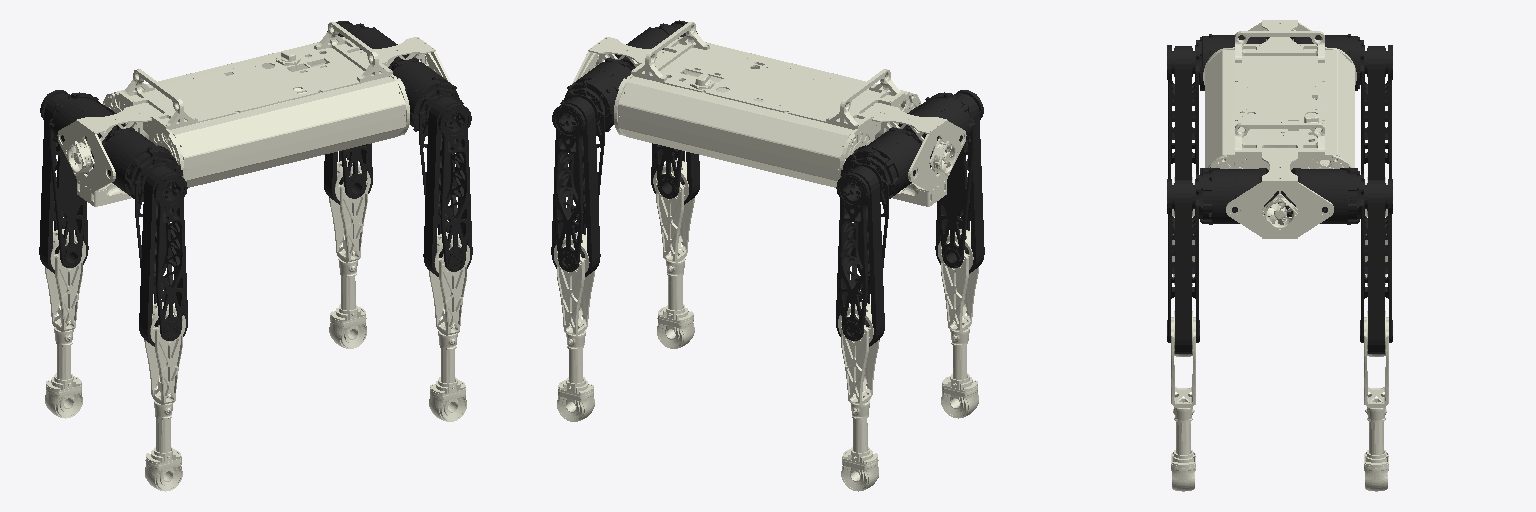
The robot description file, URDF, robot "Hound_description":

<robot name="Hound_description" xmlns:xacro="http://www.ros.org/wiki/xacro">
  <material name="black">
    <color rgba="0.0 0.0 0.0 1.0"/>
  </material>
  <material name="blue">
    <color rgba="0.0 0.0 0.8 1.0"/>
  </material>
  <material name="green">
    <color rgba="0.0 0.8 0.0 1.0"/>
  </material>
  <material name="grey">
    <color rgba="0.2 0.2 0.2 1.0"/>
  </material>
  <material name="silver">
    <color rgba="0.913725490196 0.913725490196 0.847058823529 1.0"/>
  </material>
  <material name="orange">
    <color rgba="1.0 0.423529411765 0.0392156862745 1.0"/>
  </material>
  <material name="brown">
    <color rgba="0.870588235294 0.811764705882 0.764705882353 1.0"/>
  </material>
  <material name="red">
    <color rgba="0.8 0.0 0.0 1.0"/>
  </material>
  <material name="white">
    <color rgba="1.0 1.0 1.0 1.0"/>
  </material>

  <link name="trunk">
    <visual>
      <origin rpy="0 0 0" xyz="0 0 0"/>
      <geometry>
        <mesh filename="../meshes/base.stl" scale="1 1 1"/>
      </geometry>
      <material name="silver"/>
    </visual>
    <collision>
      <origin rpy="0 0 0" xyz="0 0 0"/>
      <geometry>
        <box size="0.56200000 0.25100000 0.14000000"/>
      </geometry>
    </collision>
    <inertial>
      <origin rpy="0 0 0" xyz="0.00131900 0.00023900 0.00387900"/>
      <mass value="18.47623500"/>
      <inertia ixx="0.21721300" ixy="0.00143000" ixz="0.00207600" iyy="0.80351400" iyz="0.00030900" izz="0.95808400"/>
    </inertial>
  </link>

  <joint name="rear_cam_fixed" type="fixed">
    <origin rpy="0 0 0" xyz="-0.4215 0 -0.070"/>
    <parent link="trunk"/>
    <child link="rear_cam"/>
  </joint>
  <link name="rear_cam">
    <visual>
      <origin rpy="0 0 0" xyz="0 0 0"/>
      <geometry>
        <mesh filename="../meshes/rear_cam.stl" scale="1 1 1"/>
      </geometry>
      <material name="silver"/>
    </visual>
    <collision>
      <origin rpy="0 0 0" xyz="0.0745 0 -0.020"/>
      <geometry>
        <box size="0.150 0.080 0.040"/>
      </geometry>
    </collision>
    <inertial>
      <origin rpy="0 0 0" xyz="0.07235258 -0.00001318 -0.01430797"/>
      <mass value="0.176"/>
      <inertia ixx="0.00008264" ixy="0.00000000" ixz="-0.00000147" iyy="0.00031979" iyz="0.00000000" izz="0.00038072"/>
    </inertial>
  </link>

  <joint name="RR_roll_joint" type="revolute">
    <origin rpy="0 0 0" xyz="-0.35147000 -0.10000000 0.00000000"/>
    <parent link="trunk"/>
    <child link="RR_shoulder"/>
    <axis xyz="1 0 0"/>
    <dynamics rotor_inertia="0.01405600" damping="0" friction="0"/>
    <limit effort="200.00000000" lower="-0.78539816" upper="0.78539816" velocity="21.29000000"/>
  </joint>
  <link name="RR_shoulder">
    <visual>
      <origin rpy="0 3.141592 0" xyz="0 0 0"/>
      <geometry>
        <mesh filename="../meshes/shoulder.stl" scale="1 1 1"/>
      </geometry>
      <material name="grey"/>
    </visual>
    <collision>
      <origin rpy="1.57079632679 0 0" xyz="0 -0.00500000 0"/>
      <geometry>
        <cylinder length="0.13300000" radius="0.06100000"/>
      </geometry>
    </collision>
    <inertial>
      <origin rpy="0 0 0" xyz="0.00304326 -0.00050825 0.00001789"/>
      <mass value="3.86933709"/>
      <inertia ixx="0.00858804" ixy="-0.00015474" ixz="-0.00000061" iyy="0.00737145" iyz="-0.00000042" izz="0.00928864"/>
    </inertial>
  </link>
  <joint name="RR_hip_joint" type="revolute">
    <origin rpy="0 0 0" xyz="0 -0.11350000 0"/>
    <parent link="RR_shoulder"/>
    <child link="RR_thigh"/>
    <axis xyz="0 1 0"/>
    <dynamics rotor_inertia="0.01405600" damping="0" friction="0"/>
    <limit effort="200.00000000" lower="-6.28318531" upper="6.28318531" velocity="21.29000000"/>
  </joint>
  <link name="RR_thigh">
    <visual>
      <origin rpy="0 0 0" xyz="0 0 0"/>
      <geometry>
        <mesh filename="../meshes/thigh.stl" scale="1 1 1"/>
      </geometry>
      <material name="grey"/>
    </visual>
    <collision>
      <origin rpy="0 0 0" xyz="0 0 -0.16395000"/>
      <geometry>
        <box size="0.08500000 0.07000000 0.35000000"/>
      </geometry>
    </collision>
    <inertial>
      <origin rpy="0 0 0" xyz="0.00000000 0.01475079 -0.11906126"/>
      <mass value="1.38775820"/>
      <inertia ixx="0.02401331" ixy="0.00000000" ixz="0.00000000" iyy="0.02340658" iyz="0.00229407" izz="0.00240062"/>
    </inertial>
  </link>

  <joint name="RR_knee_joint" type="revolute">
    <origin rpy="0 0 0" xyz="0 0 -0.32790000"/>
    <parent link="RR_thigh"/>
    <child link="RR_calf"/>
    <axis xyz="0 1 0"/>
    <dynamics rotor_inertia="0.05624622" damping="0" friction="0"/>
    <limit effort="400.00000000" lower="-2.79252680" upper="2.79252680" velocity="10.00000000"/>
  </joint>
  <link name="RR_calf">
    <visual>
      <origin rpy="0 0 0" xyz="0 0 0"/>
      <geometry>
        <mesh filename="../meshes/calf.stl" scale="1 1 1"/>
      </geometry>
      <material name="silver"/>
    </visual>
    <collision>
      <origin rpy="0 0 0" xyz="0 0 -0.20000000"/>
      <geometry>
        <cylinder length="0.26500000" radius="0.02500000"/>
      </geometry>
    </collision>
    <inertial>
      <origin rpy="0 0 0" xyz="0.00000000 0.00000000 -0.15092214"/>
      <mass value="0.82426578"/>
      <inertia ixx="0.01867598" ixy="0.00000000" ixz="0.00000000" iyy="0.01879191" iyz="0.00000684" izz="0.00058083"/>
    </inertial>
  </link>
  <joint name="RR_foot_fixed" type="fixed">
    <origin rpy="0 0 0" xyz="0 0 -0.35000000"/>
    <parent link="RR_calf"/>
    <child link="RR_foot"/>
  </joint>
  <link name="RR_foot">
    <collision>
      <origin rpy="0 0 0" xyz="0 0 0"/>
      <geometry>
        <sphere radius="0.03800000"/>
      </geometry>
    </collision>
    <inertial>
      <origin rpy="0 0 0" xyz="0.0 0.0 0.0"/>
      <mass value="0.001"/>
      <inertia ixx="0.000001" ixy="0.0" ixz="0.0" iyy="0.000001" iyz="0.0" izz="0.000001"/>
    </inertial>
  </link>

	
  <joint name="RL_roll_joint" type="revolute">
    <origin rpy="0 0 0" xyz="-0.35147000 0.10000000 0.00000000"/>
    <parent link="trunk"/>
    <child link="RL_shoulder"/>
    <axis xyz="1 0 0"/>
    <dynamics rotor_inertia="0.01405600" damping="0" friction="0"/>
    <limit effort="200.00000000" lower="-0.78539816" upper="0.78539816" velocity="21.29000000"/>
  </joint>
  <link name="RL_shoulder">
    <visual>
      <origin rpy="0 0 3.141592" xyz="0 0 0"/>
      <geometry>
        <mesh filename="../meshes/shoulder.stl" scale="1 1 1"/>
      </geometry>
      <material name="grey"/>
    </visual>
    <collision>
      <origin rpy="1.57079632679 0 0" xyz="0 0.00500000 0"/>
      <geometry>
        <cylinder length="0.13300000" radius="0.06100000"/>
      </geometry>
    </collision>
    <inertial>
      <origin rpy="0 0 0" xyz="0.00304326 0.00050825 -0.00001789"/>
      <mass value="3.86933709"/>
      <inertia ixx="0.00858804" ixy="0.00015474" ixz="0.00000061" iyy="0.00737145" iyz="-0.00000042" izz="0.00928864"/>
    </inertial>
  </link>
  <joint name="RL_hip_joint" type="revolute">
    <origin rpy="0 0 0" xyz="0 0.11350000 0"/>
    <parent link="RL_shoulder"/>
    <child link="RL_thigh"/>
    <axis xyz="0 1 0"/>
    <dynamics rotor_inertia="0.01405600" damping="0" friction="0"/>
    <limit effort="200.00000000" lower="-6.28318531" upper="6.28318531" velocity="21.29000000"/>
  </joint>
  <link name="RL_thigh">
    <visual>
      <origin rpy="0 0 3.141592" xyz="0 0 0"/>
      <geometry>
        <mesh filename="../meshes/thigh.stl" scale="1 1 1"/>
      </geometry>
      <material name="grey"/>
    </visual>
    <collision>
      <origin rpy="0 0 0" xyz="0 0 -0.16395000"/>
      <geometry>
        <box size="0.08500000 0.07000000 0.35000000"/>
      </geometry>
    </collision>
    <inertial>
      <origin rpy="0 0 0" xyz="-0.00000000 -0.01475079 -0.11906126"/>
      <mass value="1.38775820"/>
      <inertia ixx="0.02401331" ixy="0.00000000" ixz="-0.00000000" iyy="0.02340658" iyz="-0.00229407" izz="0.00240062"/>
    </inertial>
  </link>
  <joint name="RL_knee_joint" type="revolute">
    <origin rpy="0 0 0" xyz="0 0 -0.32790000"/>
    <parent link="RL_thigh"/>
    <child link="RL_calf"/>
    <axis xyz="0 1 0"/>
    <dynamics rotor_inertia="0.05624622" damping="0" friction="0"/>
    <limit effort="400.00000000" lower="-2.79252680" upper="2.79252680" velocity="10.00000000"/>
  </joint>
  <link name="RL_calf">
    <visual>
      <origin rpy="0 0 0" xyz="0 0 0"/>
      <geometry>
        <mesh filename="../meshes/calf.stl" scale="1 1 1"/>
      </geometry>
      <material name="silver"/>
    </visual>
    <collision>
      <origin rpy="0 0 0" xyz="0 0 -0.20000000"/>
      <geometry>
        <cylinder length="0.26500000" radius="0.02500000"/>
      </geometry>
    </collision>
    <inertial>
      <origin rpy="0 0 0" xyz="0.00000000 -0.00000000 -0.15092214"/>
      <mass value="0.82426578"/>
      <inertia ixx="0.01867598" ixy="-0.00000000" ixz="0.00000000" iyy="0.01879191" iyz="-0.00000684" izz="0.00058083"/>
    </inertial>
  </link>
  <joint name="RL_foot_fixed" type="fixed">
    <origin rpy="0 0 0" xyz="0 0 -0.35000000"/>
    <parent link="RL_calf"/>
    <child link="RL_foot"/>
  </joint>
  <link name="RL_foot">
    <collision>
      <origin rpy="0 0 0" xyz="0 0 0"/>
      <geometry>
        <sphere radius="0.03800000"/>
      </geometry>
    </collision>
    <inertial>
      <origin rpy="0 0 0" xyz="0.0 0.0 0.0"/>
      <mass value="0.001"/>
      <inertia ixx="0.000001" ixy="0.0" ixz="0.0" iyy="0.000001" iyz="0.0" izz="0.000001"/>
    </inertial>
  </link>


  <joint name="FR_roll_joint" type="revolute">
    <origin rpy="0 0 0" xyz="0.35147000 -0.10000000 0.00000000"/>
    <parent link="trunk"/>
    <child link="FR_shoulder"/>
    <axis xyz="1 0 0"/>
    <dynamics rotor_inertia="0.01405600" damping="0" friction="0"/>
    <limit effort="200.00000000" lower="-0.78539816" upper="0.78539816" velocity="21.29000000"/>
  </joint>
  <link name="FR_shoulder">
    <visual>
      <origin rpy="0 0 0" xyz="0 0 0"/>
      <geometry>
        <mesh filename="../meshes/shoulder.stl" scale="1 1 1"/>
      </geometry>
      <material name="grey"/>
    </visual>
    <collision>
      <origin rpy="1.57079632679 0 0" xyz="0 -0.00500000 0"/>
      <geometry>
        <cylinder length="0.13300000" radius="0.06100000"/>
      </geometry>
    </collision>
    <inertial>
      <origin rpy="0 0 0" xyz="-0.00304326 -0.00050825 -0.00001789"/>
      <mass value="3.86933709"/>
      <inertia ixx="0.00858804" ixy="0.00015474" ixz="-0.00000061" iyy="0.00737145" iyz="0.00000042" izz="0.00928864"/>
    </inertial>
  </link>
  <joint name="FR_hip_joint" type="revolute">
    <origin rpy="0 0 0" xyz="0 -0.11350000 0"/>
    <parent link="FR_shoulder"/>
    <child link="FR_thigh"/>
    <axis xyz="0 1 0"/>
    <dynamics rotor_inertia="0.01405600" damping="0" friction="0"/>
    <limit effort="200.00000000" lower="-6.28318531" upper="6.28318531" velocity="21.29000000"/>
  </joint>
  <link name="FR_thigh">
    <visual>
      <origin rpy="0 0 0" xyz="0 0 0"/>
      <geometry>
        <mesh filename="../meshes/thigh.stl" scale="1 1 1"/>
      </geometry>
      <material name="grey"/>
    </visual>
    <collision>
      <origin rpy="0 0 0" xyz="0 0 -0.16395000"/>
      <geometry>
        <box size="0.08500000 0.07000000 0.35000000"/>
      </geometry>
    </collision>
    <inertial>
      <origin rpy="0 0 0" xyz="0.00000000 0.01475079 -0.11906126"/>
      <mass value="1.38775820"/>
      <inertia ixx="0.02401331" ixy="0.00000000" ixz="0.00000000" iyy="0.02340658" iyz="0.00229407" izz="0.00240062"/>
    </inertial>
  </link>
  <joint name="FR_knee_joint" type="revolute">
    <origin rpy="0 0 0" xyz="0 0 -0.32790000"/>
    <parent link="FR_thigh"/>
    <child link="FR_calf"/>
    <axis xyz="0 1 0"/>
    <dynamics rotor_inertia="0.05624622" damping="0" friction="0"/>
    <limit effort="400.00000000" lower="-2.79252680" upper="2.79252680" velocity="10.00000000"/>
  </joint>
  <link name="FR_calf">
    <visual>
      <origin rpy="0 0 0" xyz="0 0 0"/>
      <geometry>
        <mesh filename="../meshes/calf.stl" scale="1 1 1"/>
      </geometry>
      <material name="silver"/>
    </visual>
    <collision>
      <origin rpy="0 0 0" xyz="0 0 -0.20000000"/>
      <geometry>
        <cylinder length="0.26500000" radius="0.02500000"/>
      </geometry>
    </collision>
    <inertial>
      <origin rpy="0 0 0" xyz="0.00000000 0.00000000 -0.15092214"/>
      <mass value="0.82426578"/>
      <inertia ixx="0.01867598" ixy="0.00000000" ixz="0.00000000" iyy="0.01879191" iyz="0.00000684" izz="0.00058083"/>
    </inertial>
  </link>
  <joint name="FR_foot_fixed" type="fixed">
    <origin rpy="0 0 0" xyz="0 0 -0.35000000"/>
    <parent link="FR_calf"/>
    <child link="FR_foot"/>
  </joint>
  <link name="FR_foot">
    <collision>
      <origin rpy="0 0 0" xyz="0 0 0"/>
      <geometry>
        <sphere radius="0.03800000"/>
      </geometry>
    </collision>
    <inertial>
      <origin rpy="0 0 0" xyz="0.0 0.0 0.0"/>
      <mass value="0.001"/>
      <inertia ixx="0.000001" ixy="0.0" ixz="0.0" iyy="0.000001" iyz="0.0" izz="0.000001"/>
    </inertial>
  </link>


  <joint name="FL_roll_joint" type="revolute">
    <origin rpy="0 0 0" xyz="0.35147000 0.10000000 0.00000000"/>
    <parent link="trunk"/>
    <child link="FL_shoulder"/>
    <axis xyz="1 0 0"/>
    <dynamics rotor_inertia="0.01405600" damping="0" friction="0"/>
    <limit effort="200.00000000" lower="-0.78539816" upper="0.78539816" velocity="21.29000000"/>
  </joint>
  <link name="FL_shoulder">
    <visual>
      <origin rpy="3.141592 0 0" xyz="0 0 0"/>
      <geometry>
        <mesh filename="../meshes/shoulder.stl" scale="1 1 1"/>
      </geometry>
      <material name="grey"/>
    </visual>
    <collision>
      <origin rpy="1.57079632679 0 0" xyz="0 0.00500000 0"/>
      <geometry>
        <cylinder length="0.13300000" radius="0.06100000"/>
      </geometry>
    </collision>
    <inertial>
      <origin rpy="0 0 0" xyz="-0.00304326 0.00050825 0.00001789"/>
      <mass value="3.86933709"/>
      <inertia ixx="0.00858804" ixy="-0.00015474" ixz="0.00000061" iyy="0.00737145" iyz="0.00000042" izz="0.00928864"/>
    </inertial>
  </link>
  <joint name="FL_hip_joint" type="revolute">
    <origin rpy="0 0 0" xyz="0 0.11350000 0"/>
    <parent link="FL_shoulder"/>
    <child link="FL_thigh"/>
    <axis xyz="0 1 0"/>
    <dynamics rotor_inertia="0.01405600" damping="0" friction="0"/>
    <limit effort="200.00000000" lower="-6.28318531" upper="6.28318531" velocity="21.29000000"/>
  </joint>
  <link name="FL_thigh">
    <visual>
      <origin rpy="0 0 3.141592" xyz="0 0 0"/>
      <geometry>
        <mesh filename="../meshes/thigh.stl" scale="1 1 1"/>
      </geometry>
      <material name="grey"/>
    </visual>
    <collision>
      <origin rpy="0 0 0" xyz="0 0 -0.16395000"/>
      <geometry>
        <box size="0.08500000 0.07000000 0.35000000"/>
      </geometry>
    </collision>
    <inertial>
      <origin rpy="0 0 0" xyz="-0.00000000 -0.01475079 -0.11906126"/>
      <mass value="1.38775820"/>
      <inertia ixx="0.02401331" ixy="0.00000000" ixz="-0.00000000" iyy="0.02340658" iyz="-0.00229407" izz="0.00240062"/>
    </inertial>
  </link>
  <joint name="FL_knee_joint" type="revolute">
    <origin rpy="0 0 0" xyz="0 0 -0.32790000"/>
    <parent link="FL_thigh"/>
    <child link="FL_calf"/>
    <axis xyz="0 1 0"/>
    <dynamics rotor_inertia="0.05624622" damping="0" friction="0"/>
    <limit effort="400.00000000" lower="-2.79252680" upper="2.79252680" velocity="10.00000000"/>
  </joint>
  <link name="FL_calf">
    <visual>
      <origin rpy="0 0 0" xyz="0 0 0"/>
      <geometry>
        <mesh filename="../meshes/calf.stl" scale="1 1 1"/>
      </geometry>
      <material name="silver"/>
    </visual>
    <collision>
      <origin rpy="0 0 0" xyz="0 0 -0.20000000"/>
      <geometry>
        <cylinder length="0.26500000" radius="0.02500000"/>
      </geometry>
    </collision>
    <inertial>
      <origin rpy="0 0 0" xyz="0.00000000 -0.00000000 -0.15092214"/>
      <mass value="0.82426578"/>
      <inertia ixx="0.01867598" ixy="-0.00000000" ixz="0.00000000" iyy="0.01879191" iyz="-0.00000684" izz="0.00058083"/>
    </inertial>
  </link>
  <joint name="FL_foot_fixed" type="fixed">
    <origin rpy="0 0 0" xyz="0 0 -0.35000000"/>
    <parent link="FL_calf"/>
    <child link="FL_foot"/>
  </joint>
  <link name="FL_foot">
    <collision>
      <origin rpy="0 0 0" xyz="0 0 0"/>
      <geometry>
        <sphere radius="0.03800000"/>
      </geometry>
    </collision>
    <inertial>
      <origin rpy="0 0 0" xyz="0.0 0.0 0.0"/>
      <mass value="0.001"/>
      <inertia ixx="0.000001" ixy="0.0" ixz="0.0" iyy="0.000001" iyz="0.0" izz="0.000001"/>
    </inertial>
  </link>


</robot>

--- What the picture shows (computed from the rendered views, not written in the file) ---
The picture shows the robot from 3 angles, left to right: view 1: azimuth 30°, elevation 25°; view 2: azimuth 150°, elevation 25°; view 3: azimuth 270°, elevation 25°; orthographic projection.
Model Hound_description with 18 links and 17 joints (12 revolute, 5 fixed), rooted at trunk, posed all joints at 0.
Visible links, largest first — view 1: trunk, FR_thigh, RR_thigh, RL_thigh, RR_calf, FL_calf, RL_calf, FR_calf, RR_shoulder, FL_thigh, FR_shoulder, RL_shoulder (+2 smaller); view 2: trunk, FL_thigh, RL_thigh, RR_thigh, RL_calf, FR_calf, RR_calf, FL_calf, RL_shoulder, FR_thigh, FL_shoulder, RR_shoulder (+2 smaller); view 3: trunk, FR_thigh, FL_thigh, RR_thigh, RL_thigh, FL_calf, FR_calf, FL_shoulder, FR_shoulder, RL_shoulder, RR_shoulder.
Boxes of the visible links, x1,y1,x2,y2 form: trunk: (57,22,451,191); FR_thigh: (419,87,472,276); RR_thigh: (133,157,187,346); RL_thigh: (39,90,88,273); RR_calf: (144,302,185,491); FL_calf: (329,160,370,348); RL_calf: (45,229,85,418); FR_calf: (429,233,469,421); RR_shoulder: (102,127,182,201); FL_thigh: (324,21,372,204); FR_shoulder: (391,58,463,135); RL_shoulder: (48,92,125,167); trunk: (572,22,966,191); FL_thigh: (551,87,604,276); RL_thigh: (836,157,890,346); RR_thigh: (935,90,984,273); RL_calf: (838,302,879,491); FR_calf: (653,160,694,348); RR_calf: (938,229,978,418); FL_calf: (554,233,594,421); RL_shoulder: (841,127,921,201); FR_thigh: (651,20,699,204); FL_shoulder: (560,58,632,135); RR_shoulder: (898,92,975,167); trunk: (1203,20,1356,238); FR_thigh: (1167,174,1202,353); FL_thigh: (1357,174,1392,353); RR_thigh: (1167,40,1201,179); RL_thigh: (1358,40,1392,179); FL_calf: (1364,311,1388,491); FR_calf: (1171,311,1195,491); FL_shoulder: (1281,167,1359,224); FR_shoulder: (1200,167,1278,224); RL_shoulder: (1290,34,1359,90); RR_shoulder: (1200,34,1269,90).
Bounding box of the posed robot: 0.895 × 0.5 × 0.8425 m (x, y, z).
Meshes: 5 distinct files referenced, 14 mesh visuals loaded (5 binary STL).
